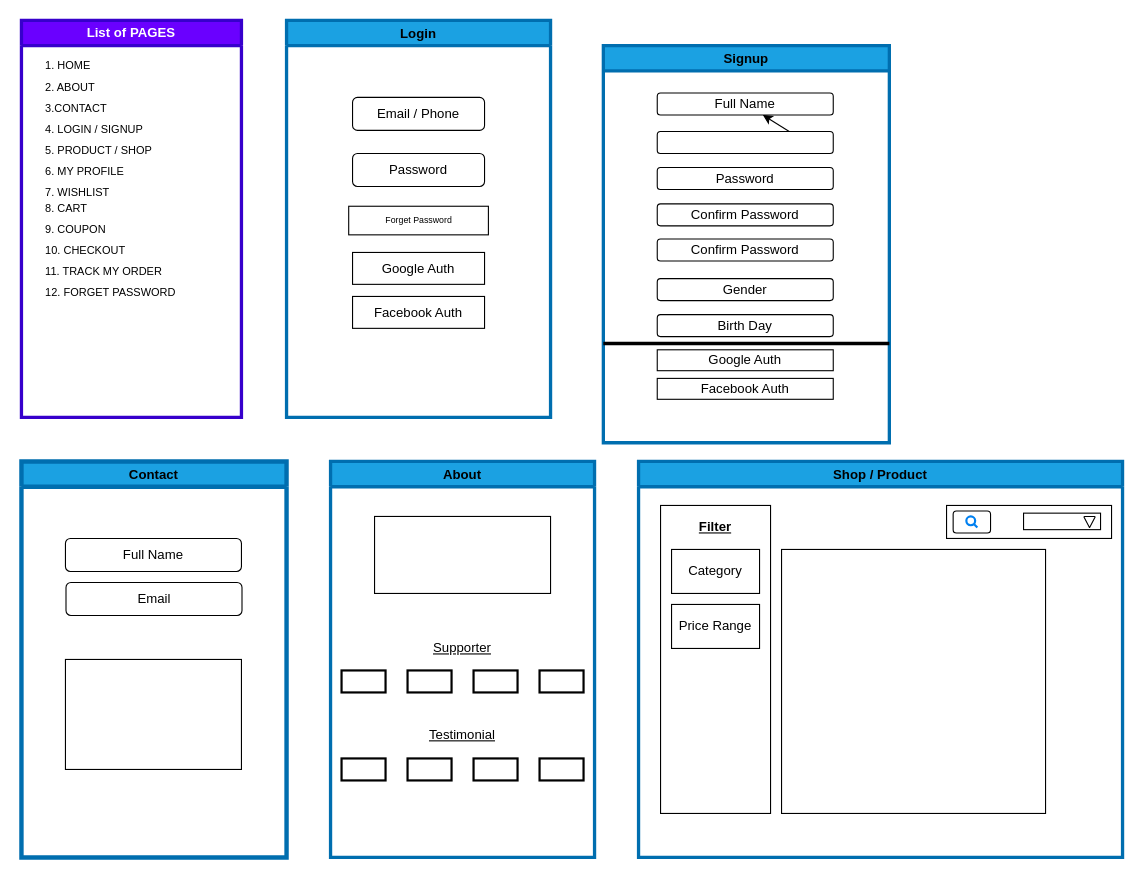
The diagram is 1143 pixels wide and 879 high, and some of its shapes have lost their labels. The shapes that lost their labels are listed below. From the top down, each one's centre as x and y in pixels, then its label:
the point at 744,141: Phone
the point at 1061,521: Sort By
the point at 462,554: Description
the point at 913,680: All Products
the point at 152,713: Message
